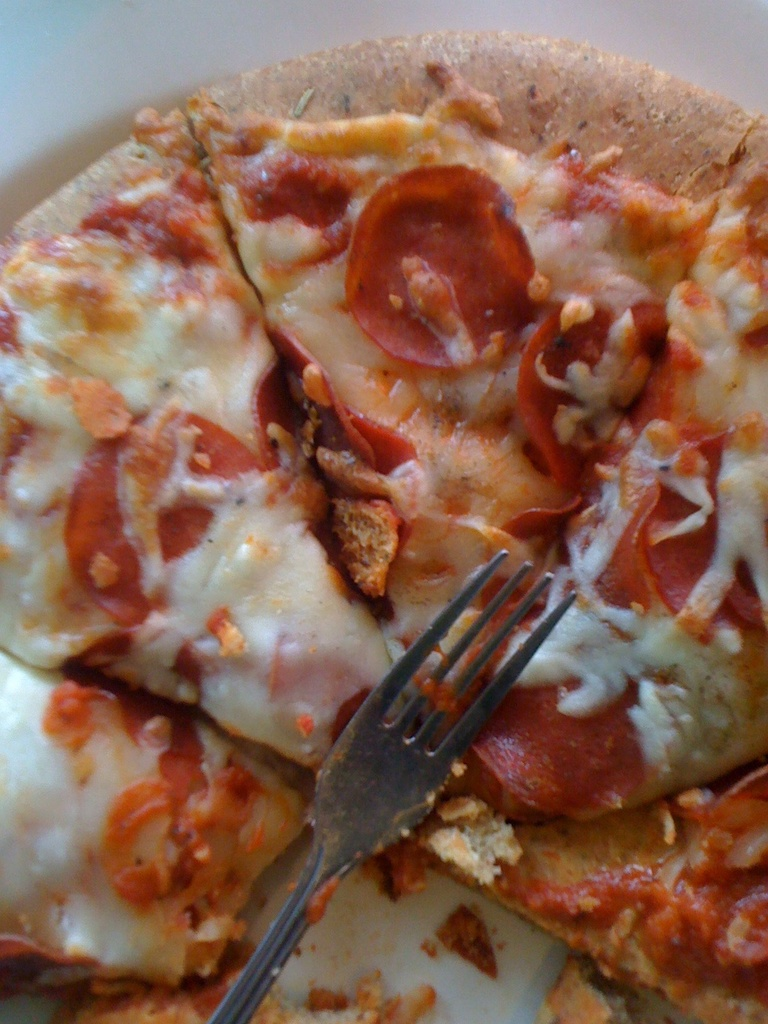Pizza: (7, 0, 757, 1009)
